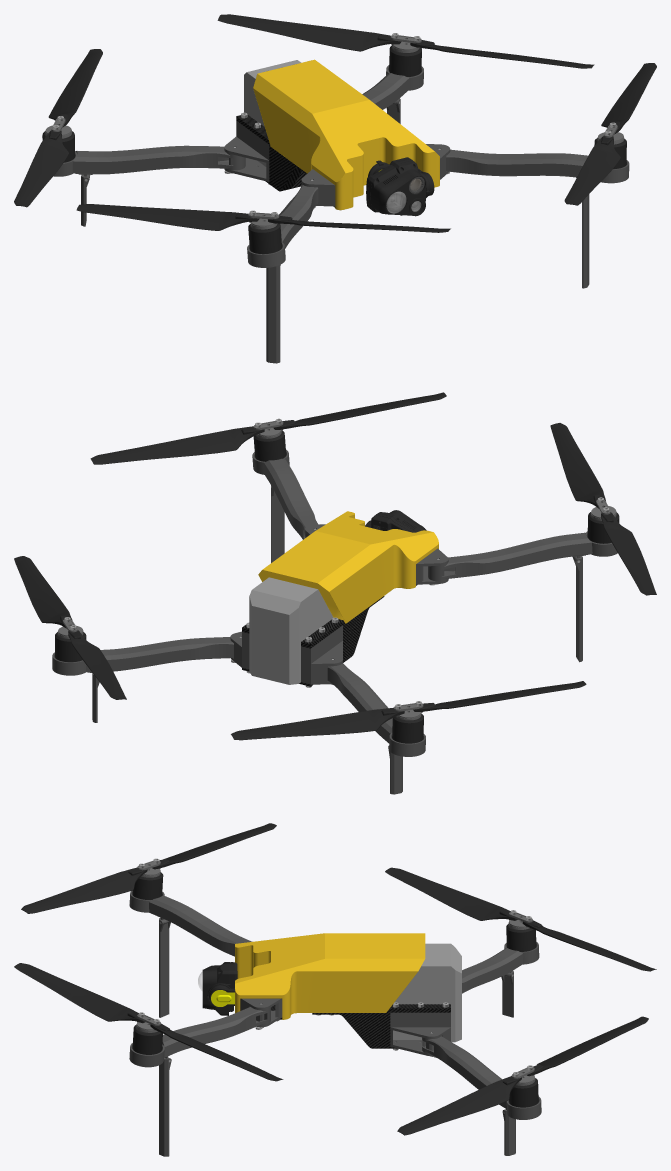
Rendered from noxr.glb.
3 views of the same model, one above another, from view 1: azimuth 30°, elevation 25°; view 2: azimuth 150°, elevation 25°; view 3: azimuth 270°, elevation 25° (orthographic). The views are drawn at different scales.
Visible parts, largest first — view 1: Canopy.001, Body1.144, Body1.148, Body1.085, Body1.089, Body3.009, Body1.083, Body1.150, Body1.087, Back Holder, Body1.084, Main Frame1 (+11 smaller); view 2: Canopy.001, Battery (1), Body1.150, Body1.146, Body1.088, Body1.084, Battery, Body1.144, Body1.148, Body1.090, Body1.086, Body1.089 (+11 smaller); view 3: Canopy.001, Battery, Body1.148, Body1.150, Body1.146, Body1.086, Body1.087, Body1.083, Body1.090, Main Frame1, back Holder, Body1.144 (+15 smaller).
Part boxes in pixels (x1=…): Canopy.001: x1=253, y1=59, x2=439, y2=210; Body1.144: x1=53, y1=145, x2=245, y2=176; Body1.148: x1=446, y1=149, x2=629, y2=183; Body1.085: x1=217, y1=14, x2=401, y2=51; Body1.089: x1=76, y1=204, x2=259, y2=230; Body3.009: x1=370, y1=160, x2=426, y2=216; Body1.083: x1=14, y1=130, x2=68, y2=207; Body1.150: x1=247, y1=184, x2=318, y2=267; Body1.087: x1=564, y1=136, x2=620, y2=205; Back Holder: x1=224, y1=121, x2=269, y2=181; Body1.084: x1=48, y1=49, x2=102, y2=126; Main Frame1: x1=236, y1=115, x2=335, y2=207; Canopy.001: x1=258, y1=511, x2=438, y2=623; Battery (1): x1=249, y1=596, x2=298, y2=684; Body1.150: x1=428, y1=531, x2=617, y2=581; Body1.146: x1=52, y1=637, x2=233, y2=675; Body1.088: x1=90, y1=426, x2=264, y2=464; Body1.084: x1=231, y1=707, x2=404, y2=740; Battery: x1=249, y1=577, x2=333, y2=683; Body1.144: x1=327, y1=663, x2=425, y2=756; Body1.148: x1=252, y1=449, x2=318, y2=539; Body1.090: x1=550, y1=423, x2=605, y2=508; Body1.086: x1=14, y1=556, x2=72, y2=628; Body1.089: x1=601, y1=512, x2=656, y2=595; Canopy.001: x1=235, y1=933, x2=425, y2=1019; Battery: x1=393, y1=943, x2=455, y2=1042; Body1.148: x1=129, y1=1007, x2=270, y2=1067; Body1.150: x1=129, y1=890, x2=252, y2=956; Body1.146: x1=422, y1=1036, x2=541, y2=1119; Body1.086: x1=397, y1=1076, x2=521, y2=1135; Body1.087: x1=14, y1=963, x2=145, y2=1023; Body1.083: x1=385, y1=867, x2=517, y2=920; Body1.090: x1=21, y1=867, x2=147, y2=913; Main Frame1: x1=271, y1=1004, x2=450, y2=1048; back Holder: x1=390, y1=1012, x2=450, y2=1056; Body1.144: x1=462, y1=942, x2=539, y2=993.
Bounding box in the file's own units: 0.286 × 0.0758 × 0.2947.
12 materials, 1 textured.
